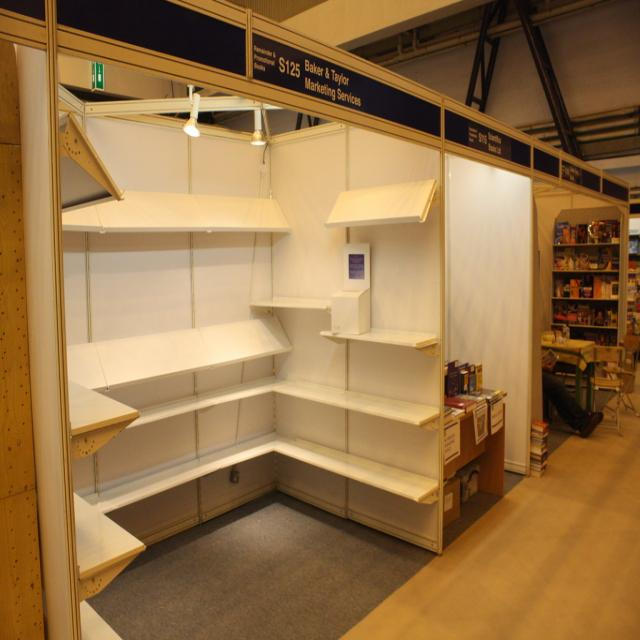chair: (591, 344, 636, 431)
desk: (416, 350, 512, 542)
